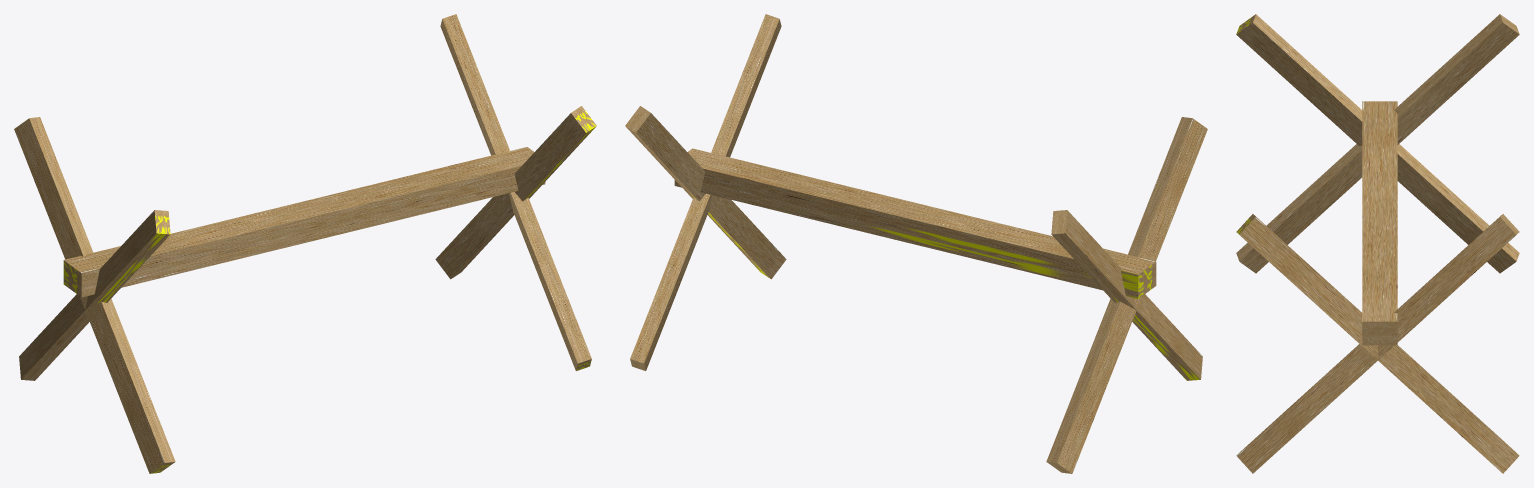
The model's file is barricade.fbx.
The picture shows the model from 3 angles, left to right: view 1: azimuth 30°, elevation 25°; view 2: azimuth 150°, elevation 25°; view 3: azimuth 270°, elevation 25°; orthographic projection. The views are drawn at different scales.
Visible parts, largest first — view 1: barricade; view 2: barricade; view 3: barricade.
Part boxes in pixels (box(x1,y1,x2,y2)): barricade: box(14, 14, 596, 473); barricade: box(625, 14, 1207, 473); barricade: box(1236, 14, 1519, 473).
Bounding box in the file's own units: 577 × 314 × 314.
